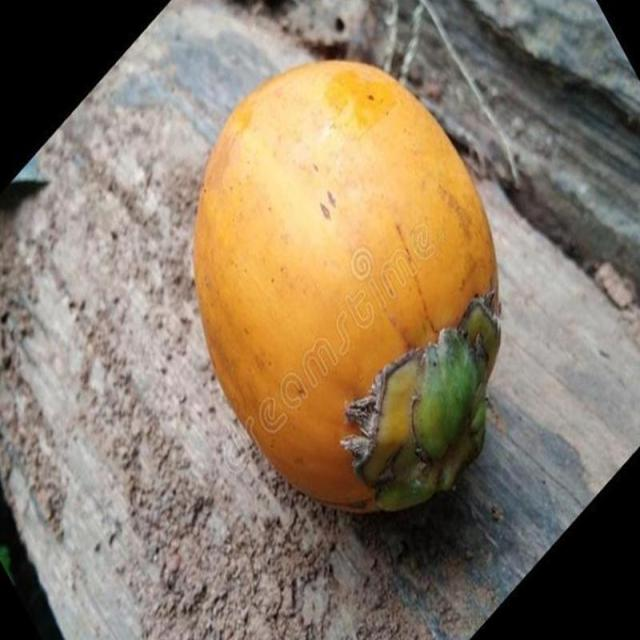good: (193, 61, 502, 516)
